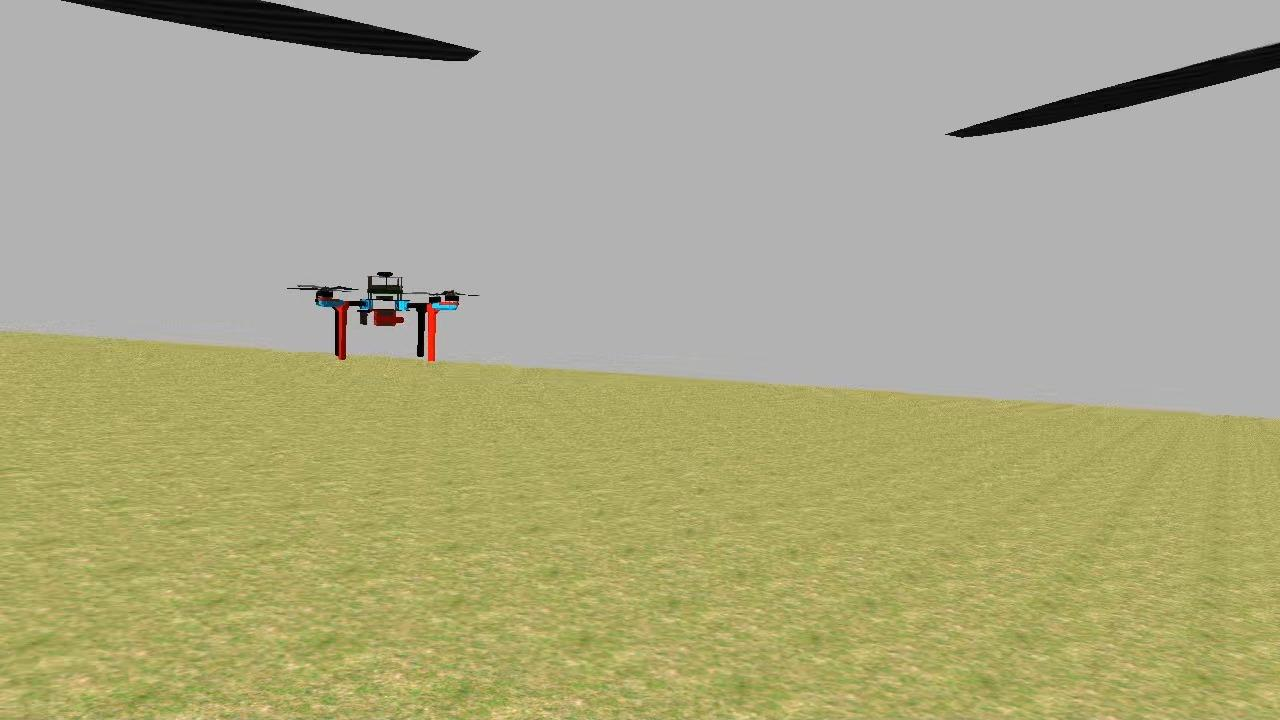UAV: (304, 264, 469, 374)
